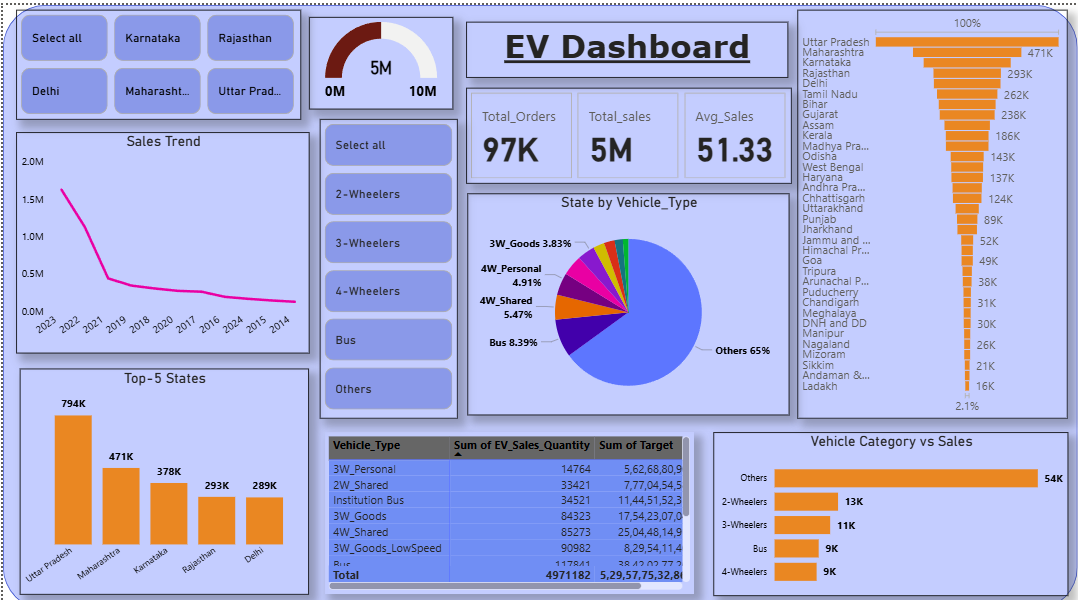

The dashboard page shown, as its layout file describes it:
{"tool":"powerbi","page":{"name":"Page 1","canvas":[1280,720],"ordinal":0},"visuals":[{"type":"shape","box":[0,0,1279.4,719.9],"z":0},{"type":"cardVisual","fields":{"Data":["EV_Db.Total_Orders","EV_Db.Total_sales","EV_Db.Avg_Sales"]},"box":[551.8,98.1,387.5,114.2],"z":1000},{"type":"lineChart","title":"Sales Trend","fields":{"Category":["EV_Db.Year"],"Y":["Sum(EV_Db.EV_Sales_Quantity)"]},"box":[15.4,151.4,349,263.1],"z":2000},{"type":"columnChart","title":"Top-5 States","fields":{"Category":["EV_Db.State"],"Y":["Sum(EV_Db.EV_Sales_Quantity)"]},"box":[20.5,432.4,343.9,269.5],"z":3000},{"type":"funnel","fields":{"Category":["EV_Db.State"],"Y":["Sum(EV_Db.EV_Sales_Quantity)"]},"box":[945.7,5.1,322.1,486.3],"z":4000},{"type":"advancedSlicerVisual","fields":{"Values":["EV_Db.State"]},"box":[15.4,5.1,338.8,130.9],"z":5000},{"type":"pieChart","title":"State by Vehicle_Type","fields":{"Category":["EV_Db.Vehicle_Type"],"Y":["CountNonNull(EV_Db.State)"]},"box":[553.1,224.6,383.7,264.3],"z":6000},{"type":"textbox","box":[551.8,20.5,383.7,66.7],"z":7000},{"type":"advancedSlicerVisual","fields":{"Values":["EV_Db.Vehicle_Category"]},"box":[377.3,136,164.3,356.7],"z":8000},{"type":"gauge","fields":{"Y":["Sum(EV_Db.EV_Sales_Quantity)"],"TargetValue":["Sum(EV_Db.Target)"]},"box":[364.4,14.1,172,110.4],"z":9000},{"type":"clusteredBarChart","title":"Vehicle Category vs Sales","fields":{"Y":["EV_Db.Total_Orders"],"Category":["EV_Db.Vehicle_Category"]},"box":[845.6,508.2,422.2,195],"z":10000},{"type":"pivotTable","fields":{"Rows":["EV_Db.Vehicle_Type"],"Values":["Sum(EV_Db.EV_Sales_Quantity)","Sum(EV_Db.Target)"]},"box":[382.4,508.2,440.1,192.5],"z":11000}]}

Visuals, with their boxes in screenshot pixels (x1, y1, x2, y2), scaled from the page's 1280x720 canvas onto the 1078x600 screenshot:
shape: <region>0, 0, 1077, 599</region>
cardVisual - EV_Db.Total_Orders x EV_Db.Total_sales: <region>465, 82, 791, 177</region>
"Sales Trend" lineChart: <region>13, 126, 307, 345</region>
"Top-5 States" columnChart: <region>17, 360, 307, 585</region>
funnel - EV_Db.State x Sum(EV_Db.EV_Sales_Quantity): <region>796, 4, 1068, 410</region>
advancedSlicerVisual - EV_Db.State: <region>13, 4, 298, 113</region>
"State by Vehicle_Type" pieChart: <region>466, 187, 789, 407</region>
textbox: <region>465, 17, 788, 73</region>
advancedSlicerVisual - EV_Db.Vehicle_Category: <region>318, 113, 456, 411</region>
gauge - Sum(EV_Db.EV_Sales_Quantity) x Sum(EV_Db.Target): <region>307, 12, 452, 104</region>
"Vehicle Category vs Sales" clusteredBarChart: <region>712, 424, 1068, 586</region>
pivotTable - EV_Db.Vehicle_Type x Sum(EV_Db.EV_Sales_Quantity): <region>322, 424, 693, 584</region>
